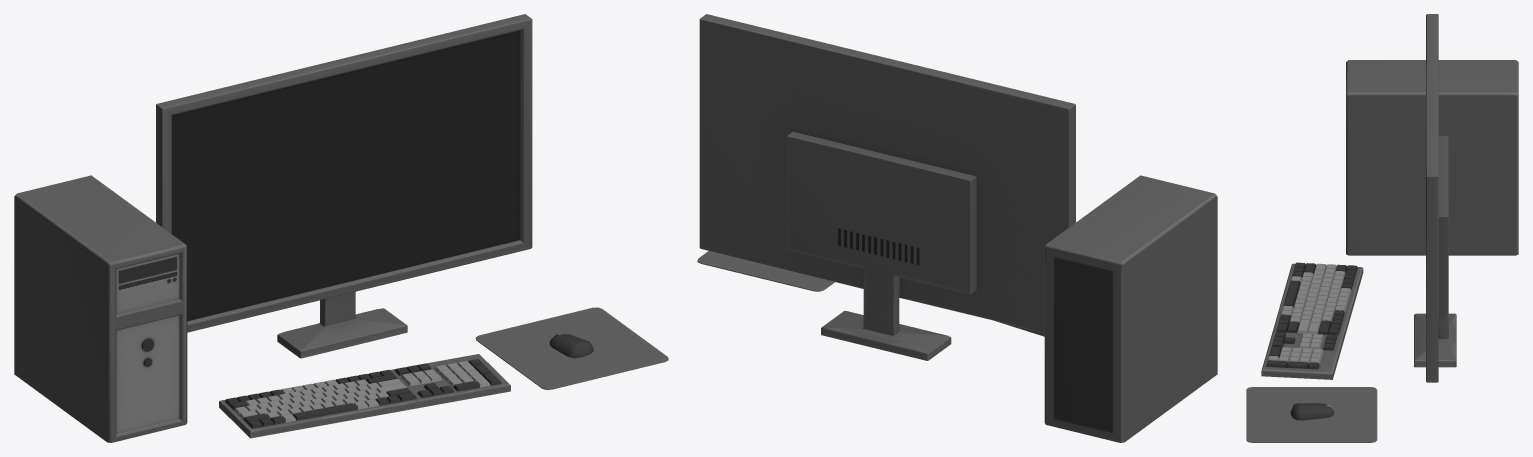
File: Pc_Setup_ALL.fbx
The picture shows the model from 3 angles, left to right: view 1: azimuth 30°, elevation 25°; view 2: azimuth 150°, elevation 25°; view 3: azimuth 270°, elevation 25°; orthographic projection. The views are drawn at different scales.
Visible parts, largest first — view 1: Monitor, ComputerBlock, Keyboard, MousePad, Mouse; view 2: Monitor, ComputerBlock, MousePad; view 3: ComputerBlock, Keyboard, Monitor, MousePad, Mouse.
Boxes of the visible parts, x1,y1,x2,y2 form: Monitor: (156,14,532,358); ComputerBlock: (14,175,187,442); Keyboard: (219,354,510,438); MousePad: (475,307,668,389); Mouse: (549,333,593,358); Monitor: (699,14,1075,360); ComputerBlock: (1044,175,1217,442); MousePad: (697,251,834,291); ComputerBlock: (1346,60,1518,255); Keyboard: (1261,262,1363,379); Monitor: (1414,14,1456,382); MousePad: (1246,387,1377,442); Mouse: (1290,403,1333,420).
Size of the model in its own units: 82.39 by 43.19 by 42.67.
5 materials, 5 textured.
